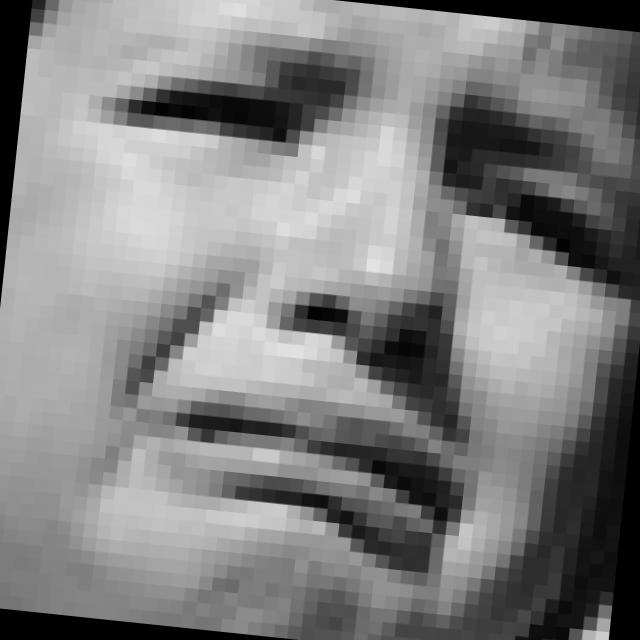sad: (35, 0, 640, 602)
